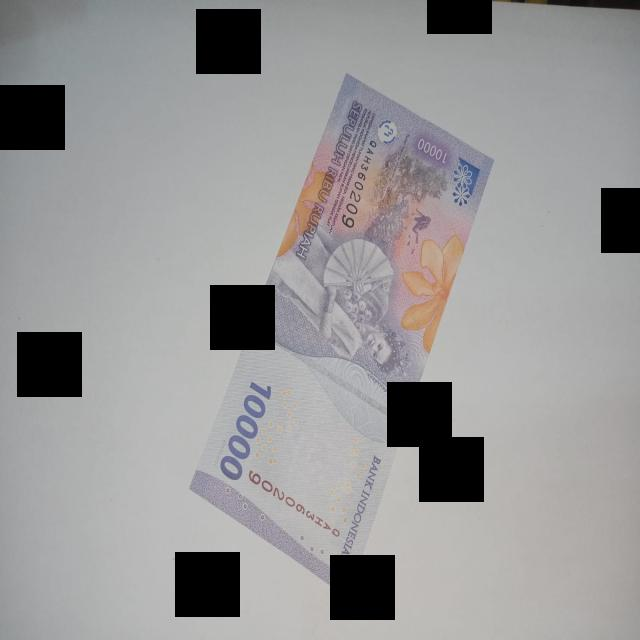sepuluhribu rupiah: (191, 75, 492, 595)
